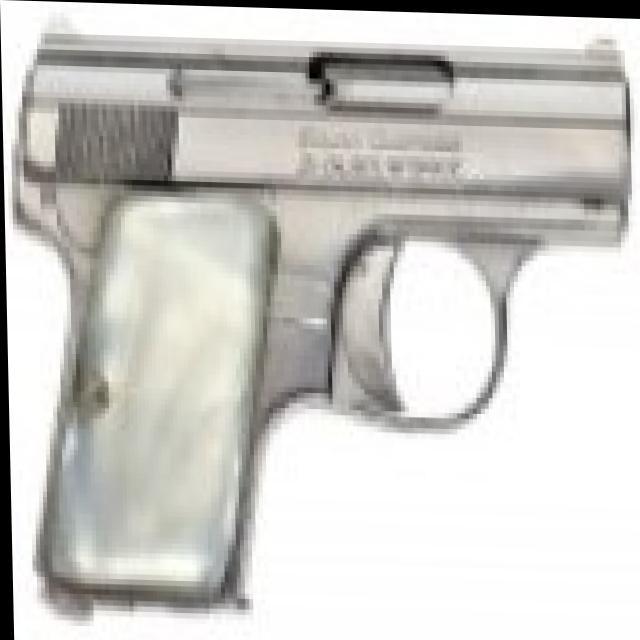handgun: (8, 11, 631, 623)
